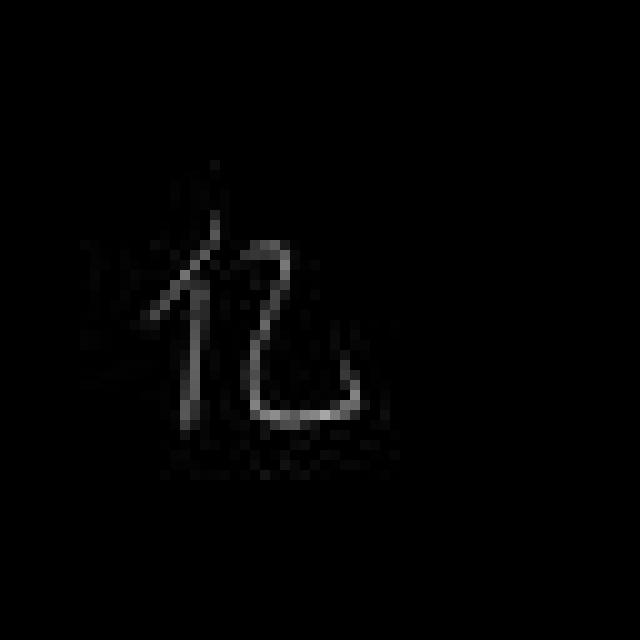100000 -a hundred thousand-: (141, 210, 377, 442)
